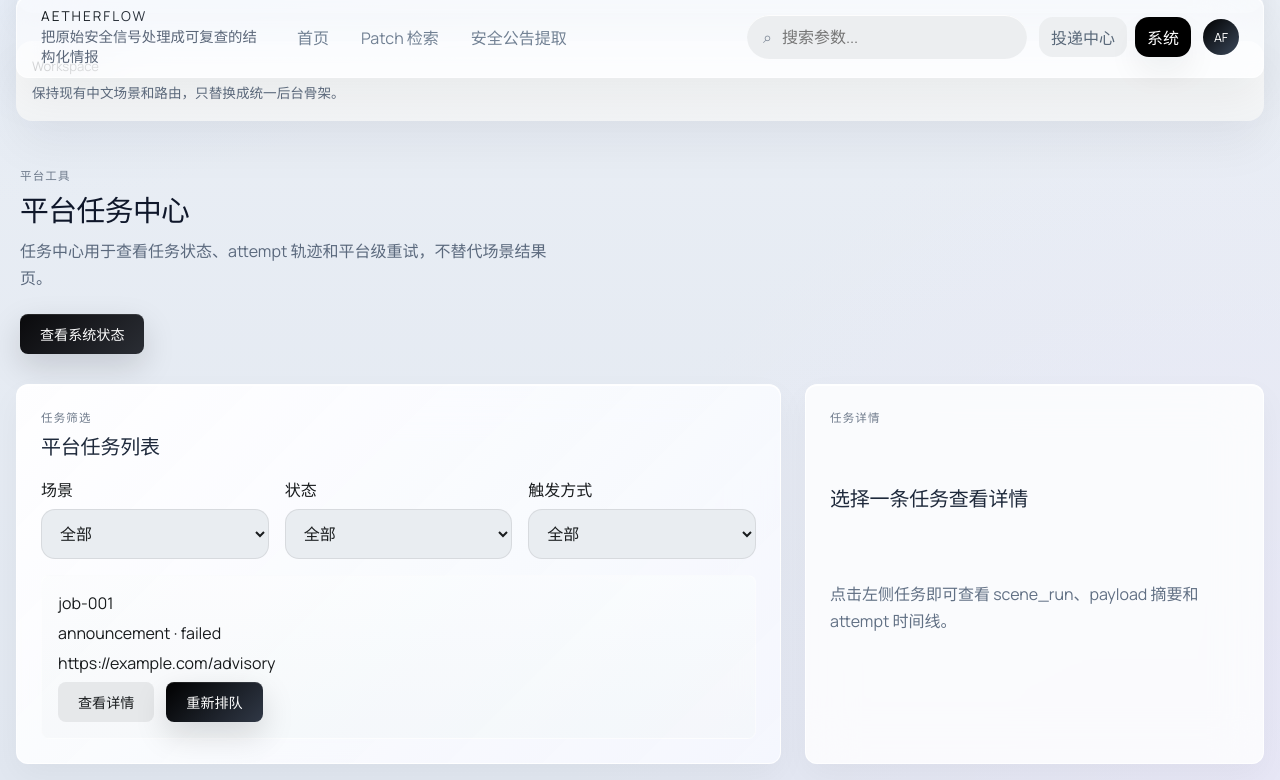
it: task center renders list, detail and retry flow from platform tasks api
The width and height of the screenshot is (1280, 780).
(page scrolled)
Check: the text "job-001" is shown, box [58,592,113,614]
Click the button "查看详情".
click(106, 702)  # box [58,682,154,722]
(page scrolled)
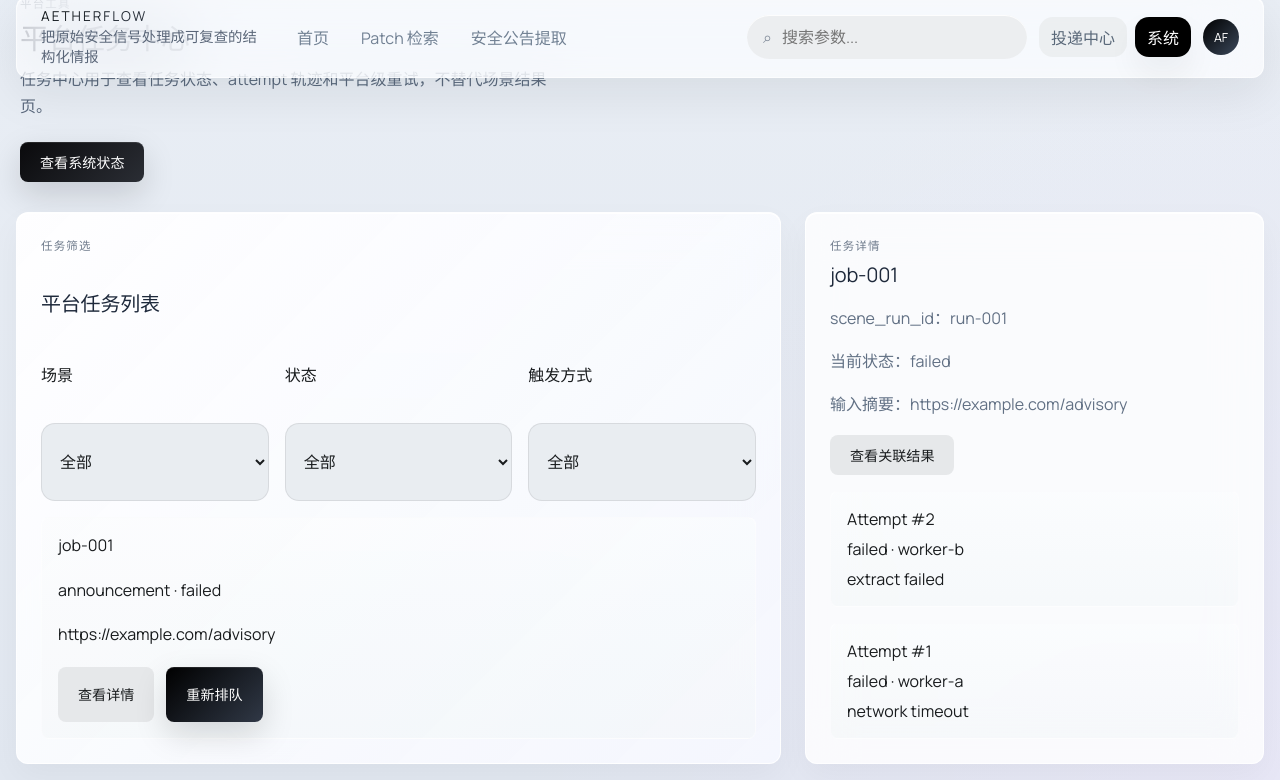
Check: the text "extract failed" is shown, box [847,568,944,590]
Click the button "重新排队".
click(214, 694)  # box [166,667,263,722]
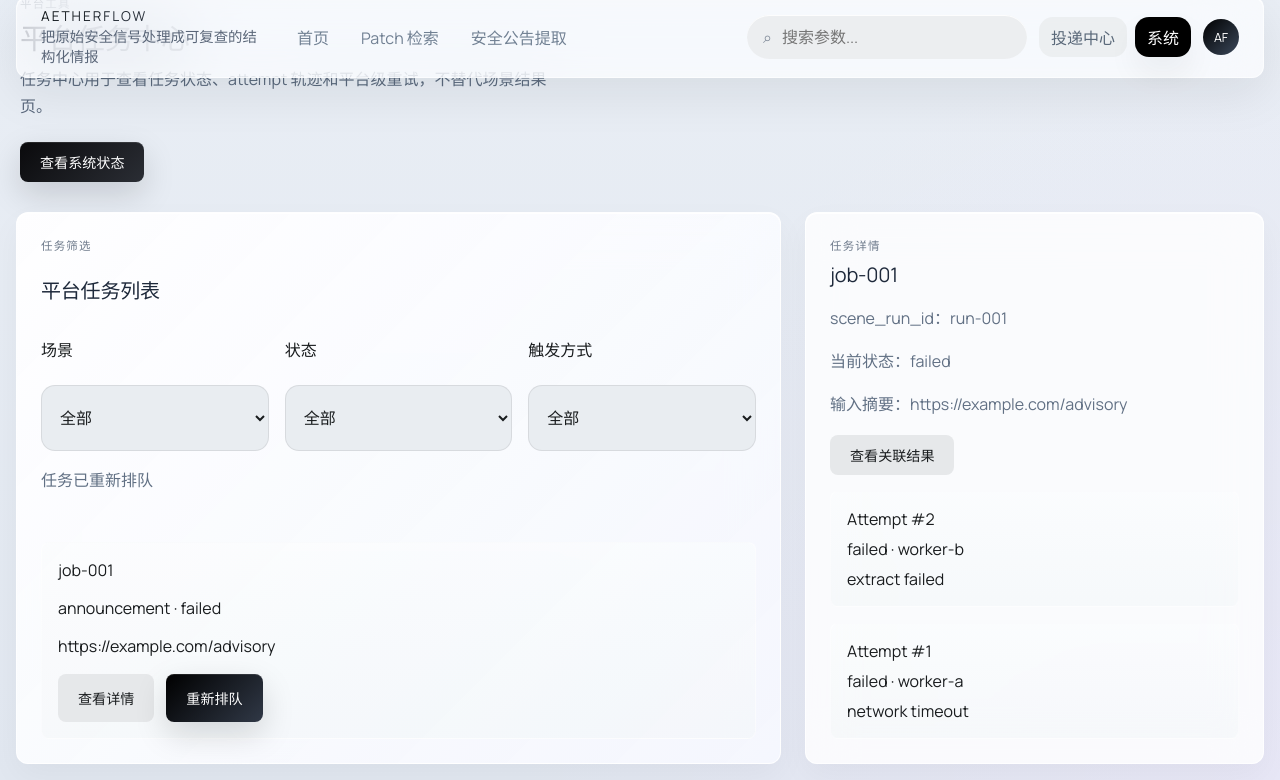
Check: the text "任务已重新排队" is shown, box [41,469,153,491]
